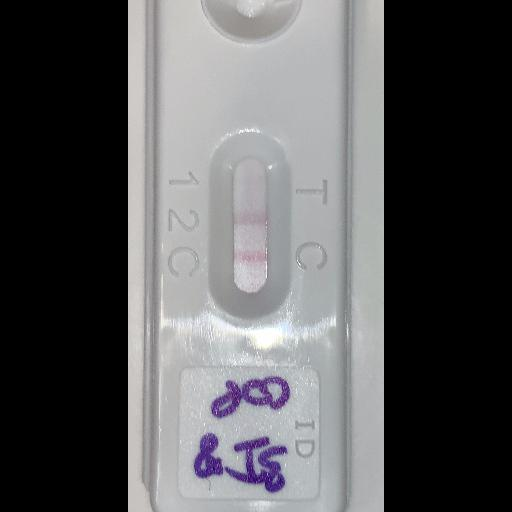Pos: (151, 0, 352, 511)
